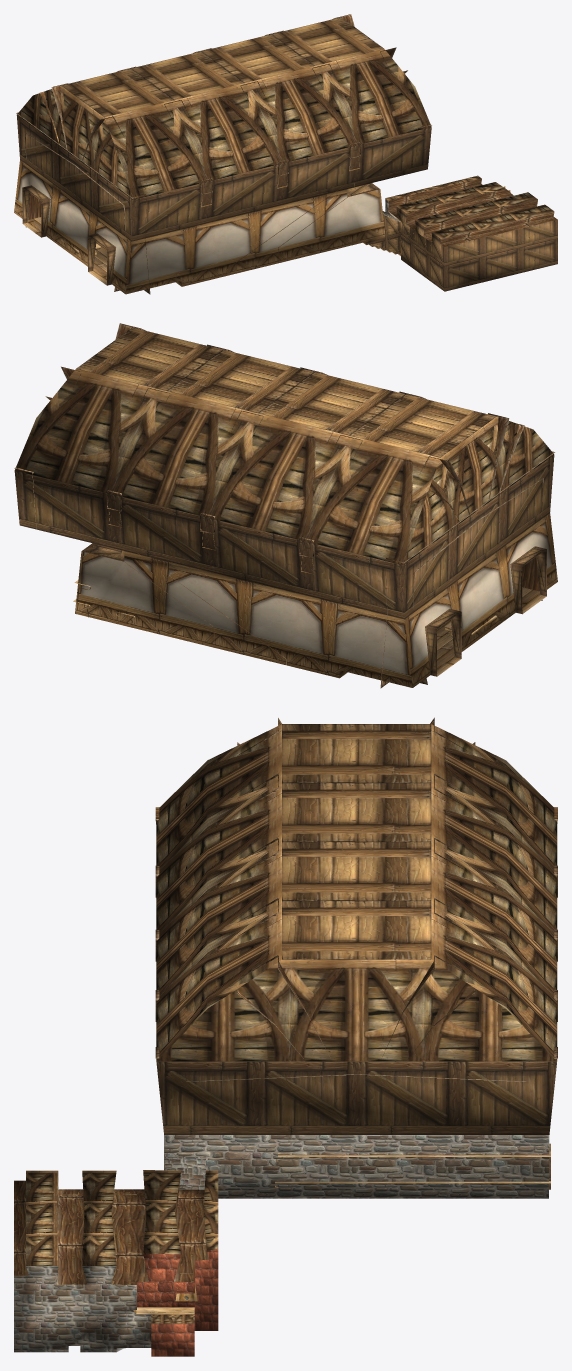
Rendered from stormwind_249.fbx.
The picture shows the model from 3 angles, top to bottom: view 1: azimuth 30°, elevation 25°; view 2: azimuth 150°, elevation 25°; view 3: azimuth 270°, elevation 25°; orthographic projection. The views are drawn at different scales.
Parts seen in each view (by area): view 1: stormwind_249_49, stormwind_249_56, stormwind_249_48, stormwind_249_55, stormwind_249_53, stormwind_249_51; view 2: stormwind_249_49, stormwind_249_56, stormwind_249_48, stormwind_249_55, stormwind_249_53, stormwind_249_51; view 3: stormwind_249_49, stormwind_249_55, stormwind_249_38, stormwind_249_56, stormwind_249_53, stormwind_249_91, stormwind_249_54.
Part boxes in pixels (bbox=[...]): stormwind_249_49: bbox=[17, 49, 553, 238]; stormwind_249_56: bbox=[16, 115, 557, 291]; stormwind_249_48: bbox=[14, 160, 400, 294]; stormwind_249_55: bbox=[61, 17, 383, 117]; stormwind_249_53: bbox=[16, 14, 557, 294]; stormwind_249_51: bbox=[23, 217, 106, 285]; stormwind_249_49: bbox=[14, 369, 553, 564]; stormwind_249_56: bbox=[14, 455, 554, 676]; stormwind_249_48: bbox=[75, 513, 557, 687]; stormwind_249_55: bbox=[76, 327, 496, 457]; stormwind_249_53: bbox=[14, 323, 555, 688]; stormwind_249_51: bbox=[437, 587, 546, 676]; stormwind_249_49: bbox=[26, 724, 557, 1323]; stormwind_249_55: bbox=[282, 724, 431, 959]; stormwind_249_38: bbox=[14, 1135, 549, 1352]; stormwind_249_56: bbox=[156, 1061, 556, 1189]; stormwind_249_53: bbox=[14, 717, 557, 1301]; stormwind_249_91: bbox=[137, 1248, 218, 1356]; stormwind_249_54: bbox=[62, 1143, 550, 1313].
Size of the model in its own units: 53.59 by 22.85 by 35.99.
